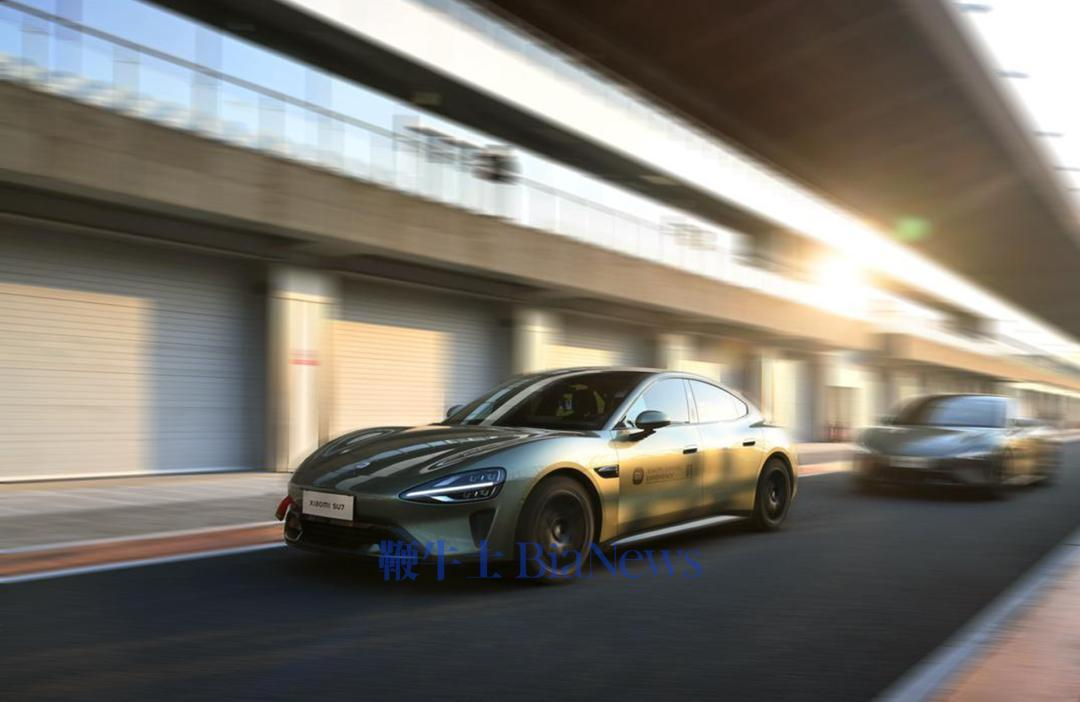su7: (288, 367, 797, 577)
